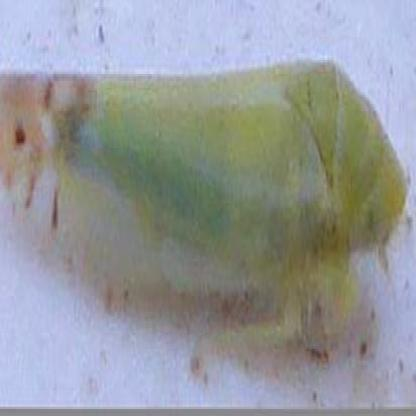green-leafhopper: (15, 66, 403, 289)
